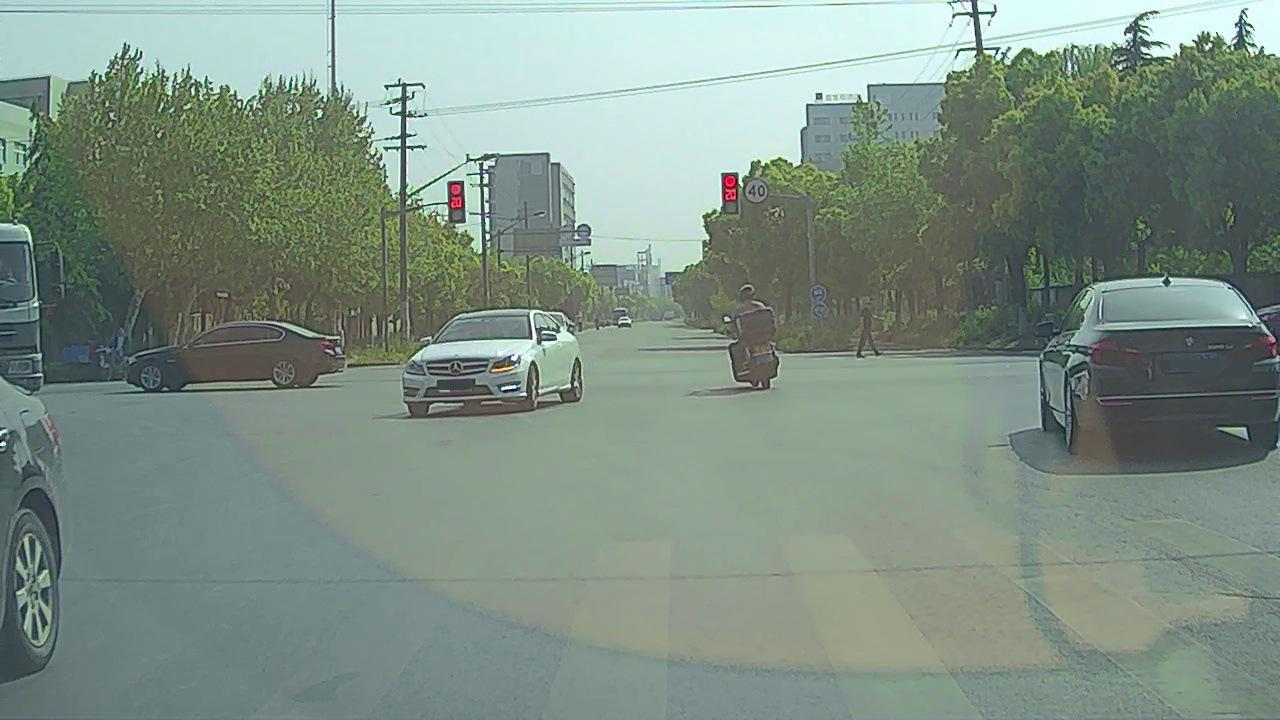traffic_light: (448, 181, 465, 222), (723, 172, 738, 215)
